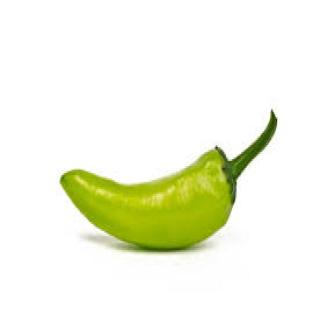Cabai Hijau: (56, 143, 320, 257)
